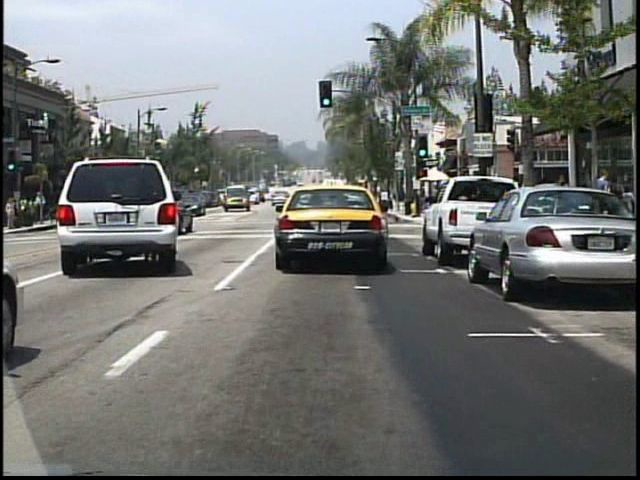person: (551, 173, 575, 235), (592, 170, 613, 232), (6, 196, 20, 231), (35, 191, 48, 223)
